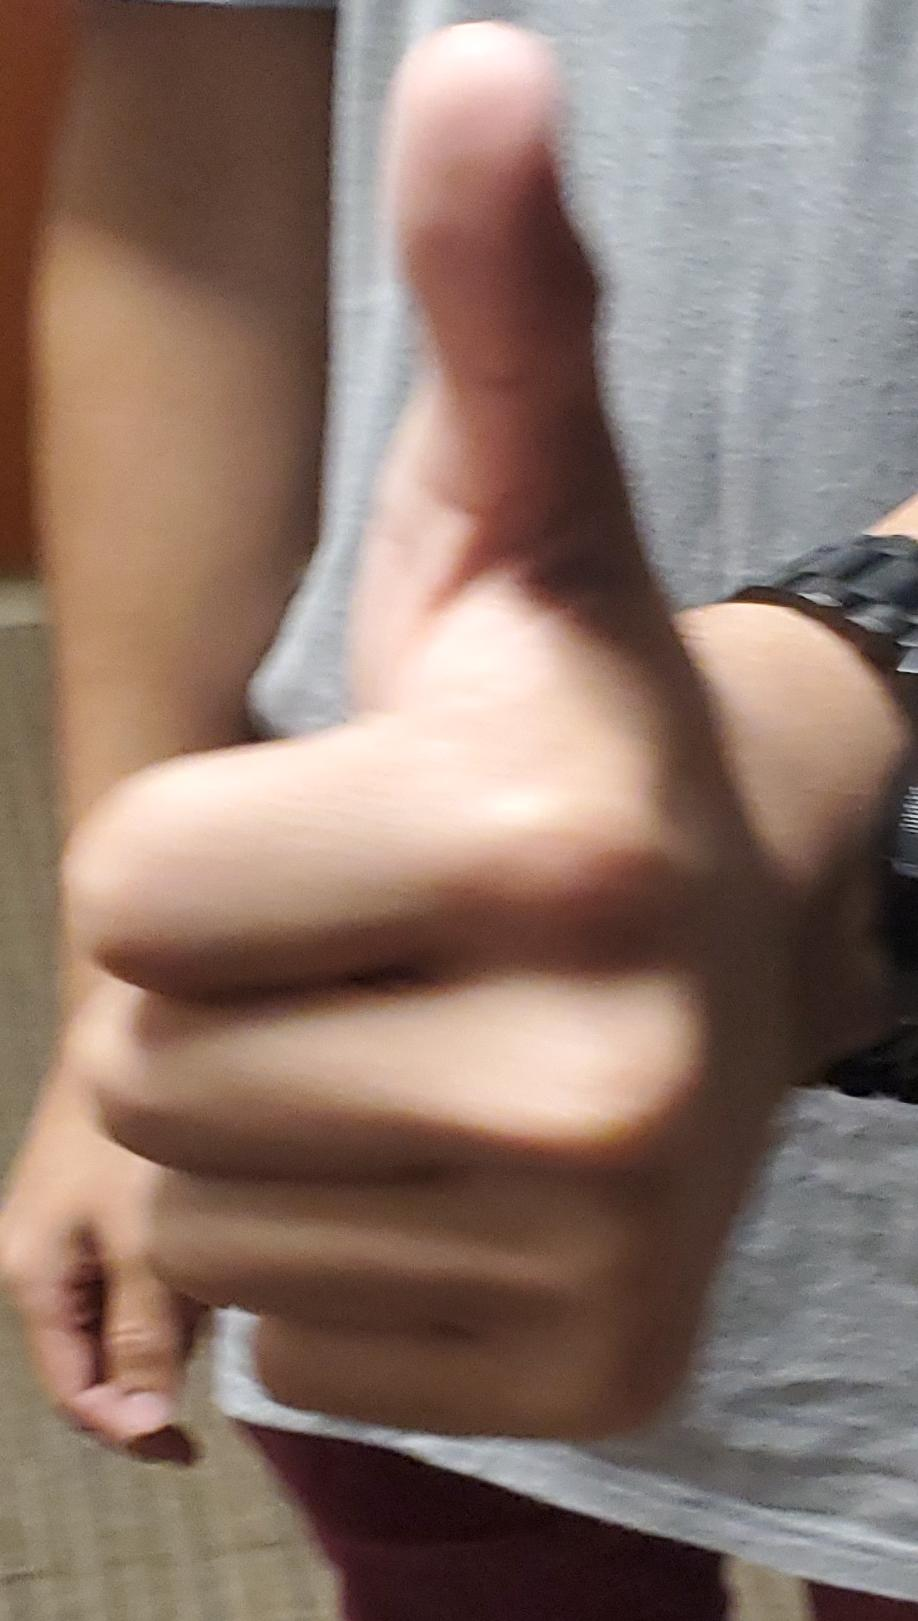up: (0, 1, 918, 1621)
